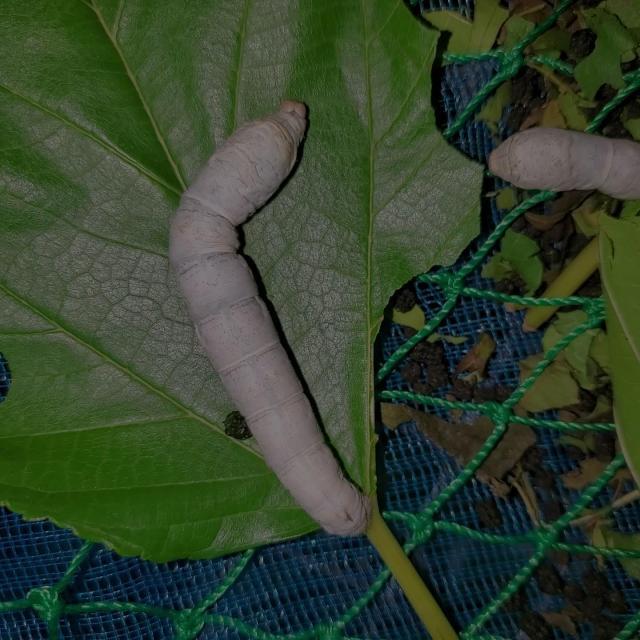Healthy: (142, 74, 396, 551)
